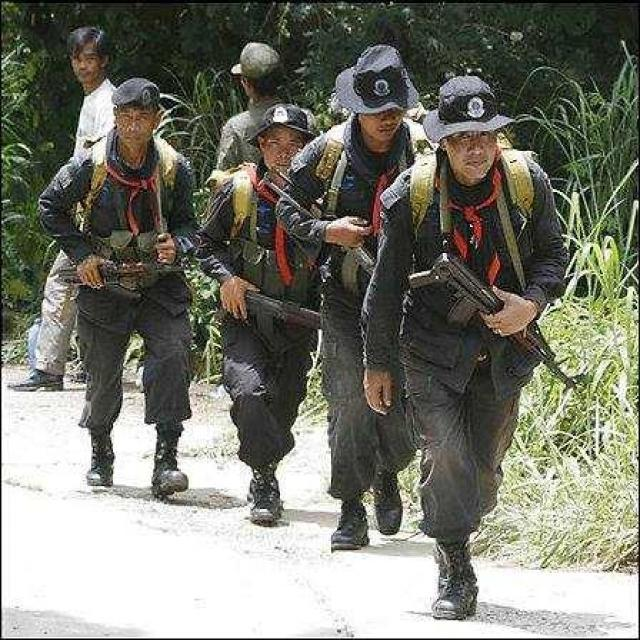ak: (408, 248, 586, 400), (260, 164, 390, 303), (46, 241, 196, 304), (214, 280, 334, 342)
